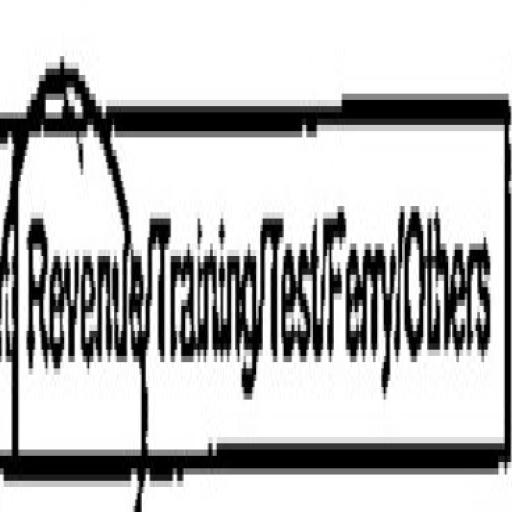check: (0, 17, 145, 512)
